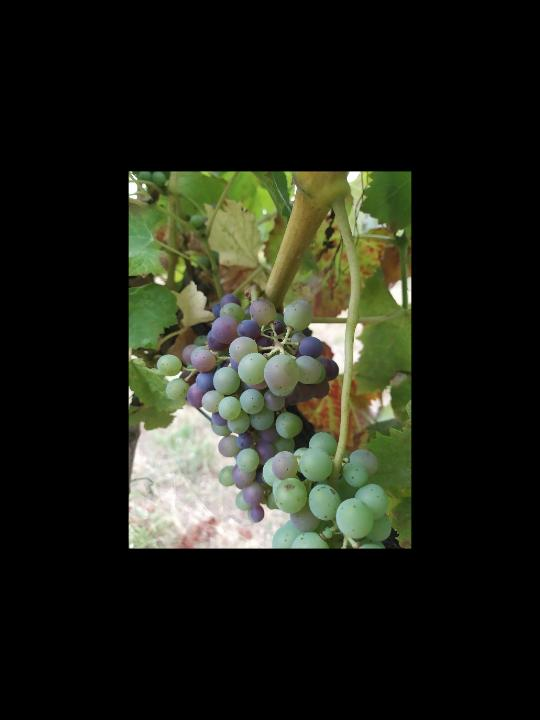grape: (156, 292, 341, 526)
